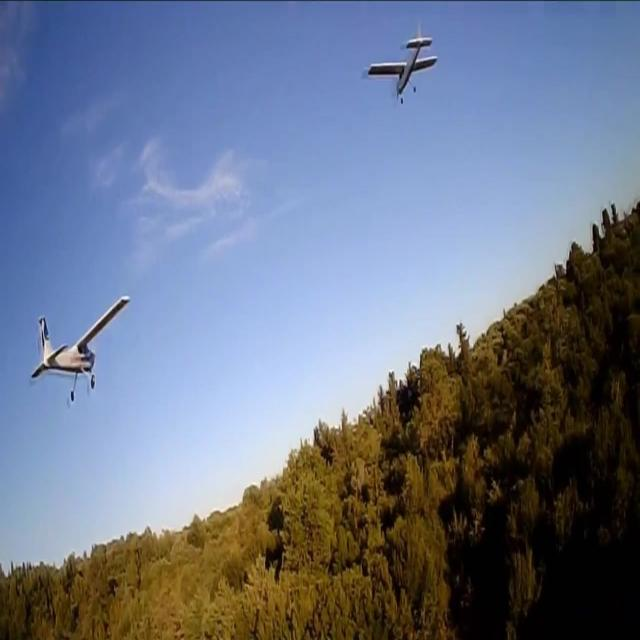iha: (0, 324, 36, 373), (402, 1, 403, 1)
